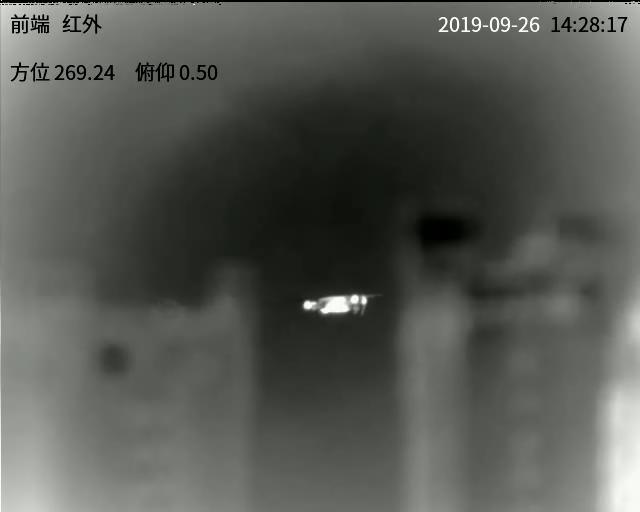uav: (295, 287, 370, 318)
